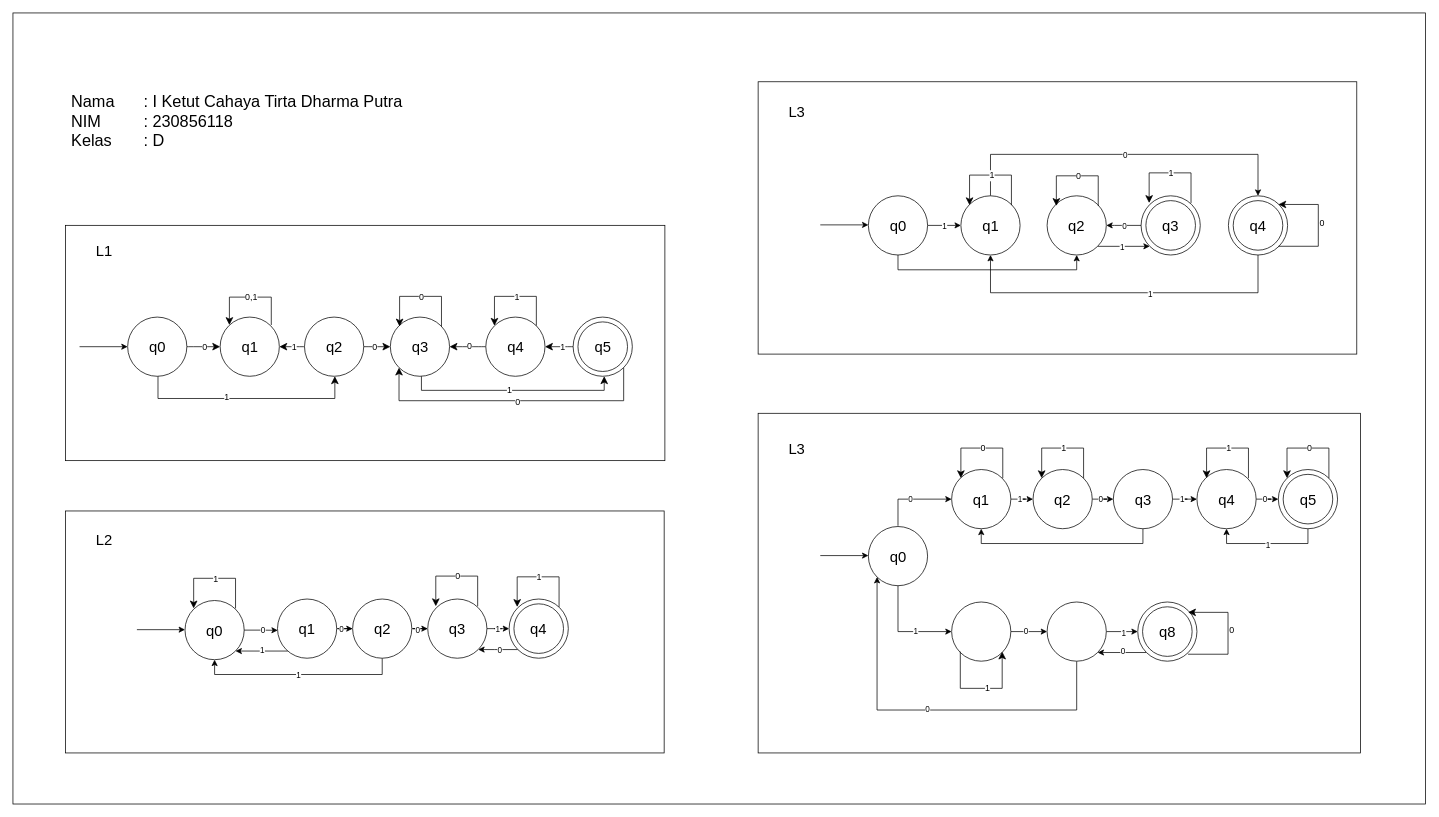
Image size: 1439x817. Some labels were removed from this diagram. Each missing label, with the centre of its shape:
q6: (x=981, y=631)
q7: (x=1076, y=631)
